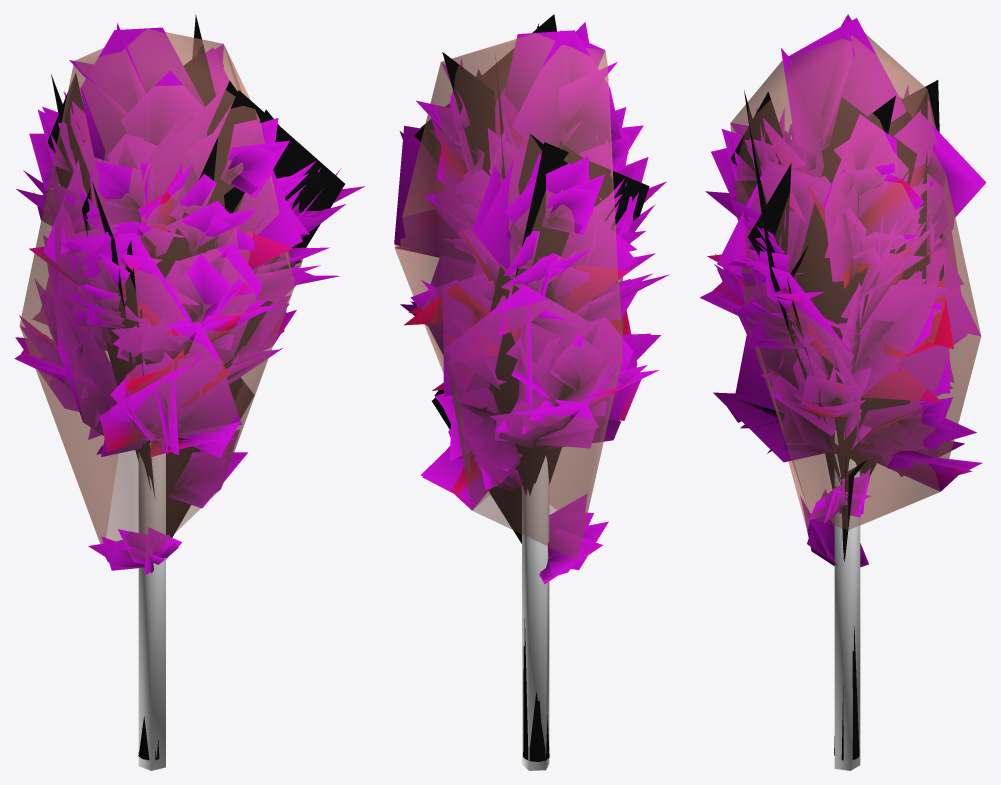
File: tree_aspen_large_a.dae
3 renders of one model, left to right at view 1: azimuth 30°, elevation 25°; view 2: azimuth 150°, elevation 25°; view 3: azimuth 270°, elevation 25°, orthographic.
Parts seen in each view (by area): view 1: Colmesh_large01-1, Birch_Large_01_a400, Birch_Large_01_a900; view 2: Colmesh_large01-1, Birch_Large_01_a400, Birch_Large_01_a900; view 3: Colmesh_large01-1, Birch_Large_01_a900, Birch_Large_01_a400.
Boxes of the visible parts, x1,y1,x2,y2 form: Colmesh_large01-1: [19, 28, 302, 770]; Birch_Large_01_a400: [14, 23, 345, 760]; Birch_Large_01_a900: [19, 14, 364, 760]; Colmesh_large01-1: [394, 33, 623, 770]; Birch_Large_01_a400: [394, 14, 669, 761]; Birch_Large_01_a900: [395, 22, 666, 761]; Colmesh_large01-1: [730, 33, 981, 770]; Birch_Large_01_a900: [707, 14, 980, 760]; Birch_Large_01_a400: [700, 16, 986, 759].
Bounding box in the file's own units: 4.34 × 3.59 × 10.11.
